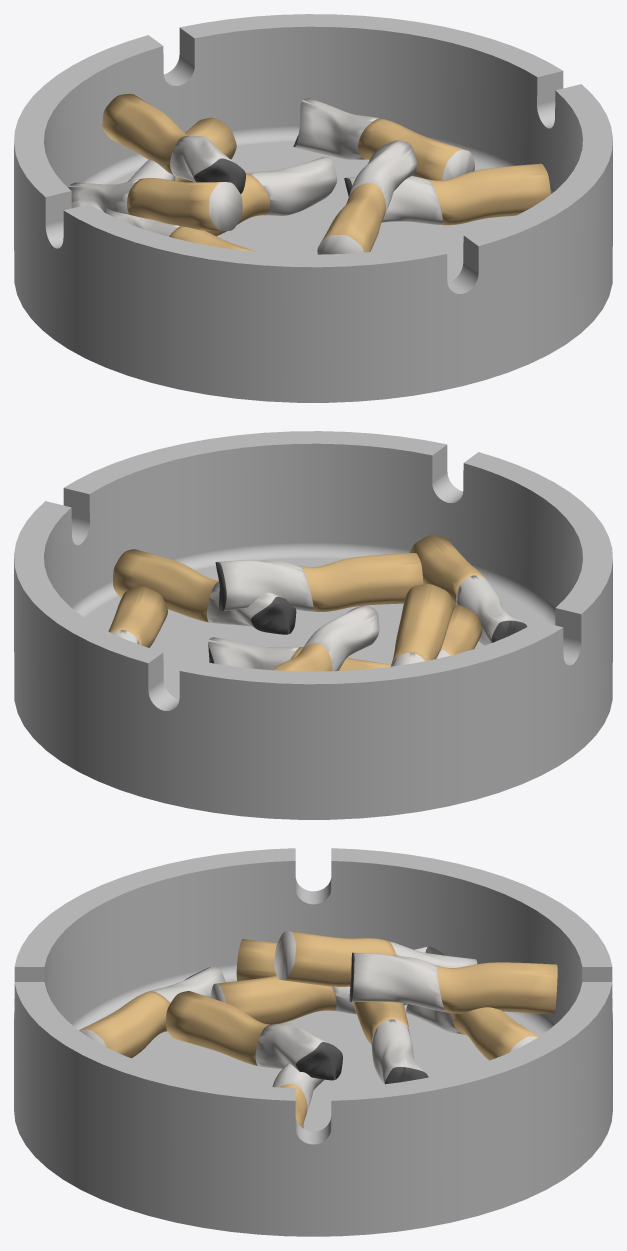
File: 灰皿少量.fbx
3 renders of one model, top to bottom at view 1: azimuth 30°, elevation 25°; view 2: azimuth 150°, elevation 25°; view 3: azimuth 270°, elevation 25°, orthographic.
Visible parts, largest first — view 1: Body, suigara; view 2: Body, suigara; view 3: Body, suigara.
Part boxes in pixels (<box>): Body: <box>14,14,612,402</box>; suigara: <box>68,93,550,254</box>; Body: <box>14,431,612,819</box>; suigara: <box>108,535,527,671</box>; Body: <box>14,848,612,1236</box>; suigara: <box>79,931,557,1128</box>.
Bounding box in the file's own units: 10 × 2.5 × 10.
